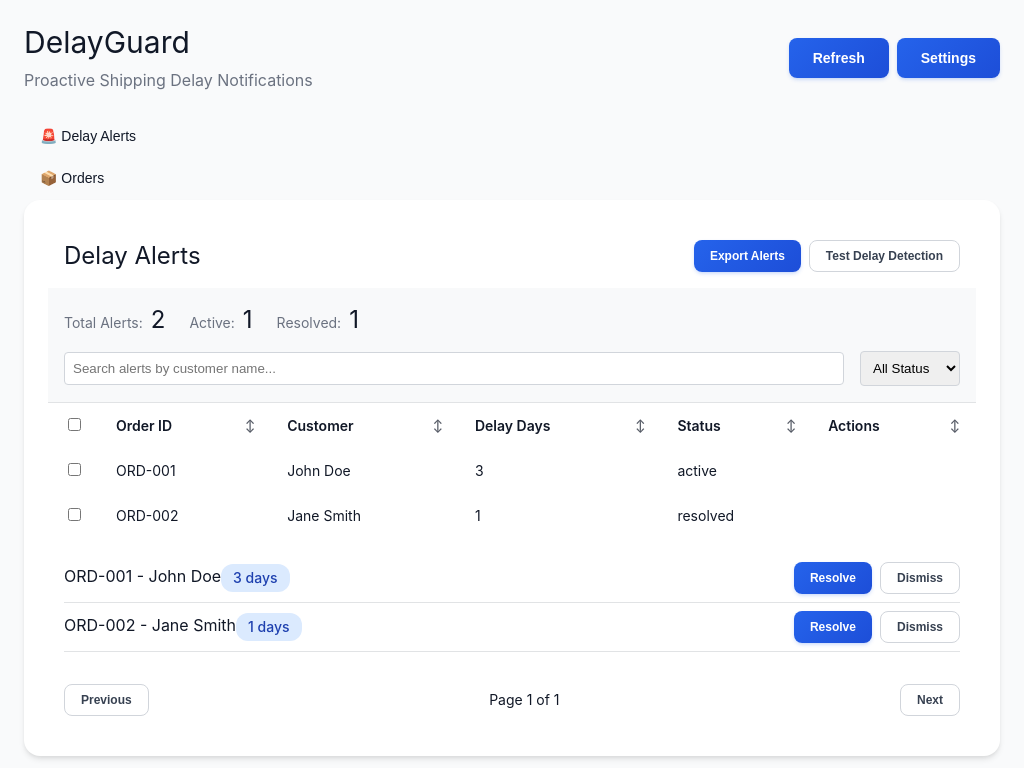
Test: MinimalApp › should display empty state when no orders
Expected: the heading "DelayGuard" is shown, [24,24,190,60]
# Switch to orders tab
What coordinates should you click on to do the following:
click the tab with test id "tab-orders"
I would click on:
 (72, 179)
Its box is [24,158,120,200].
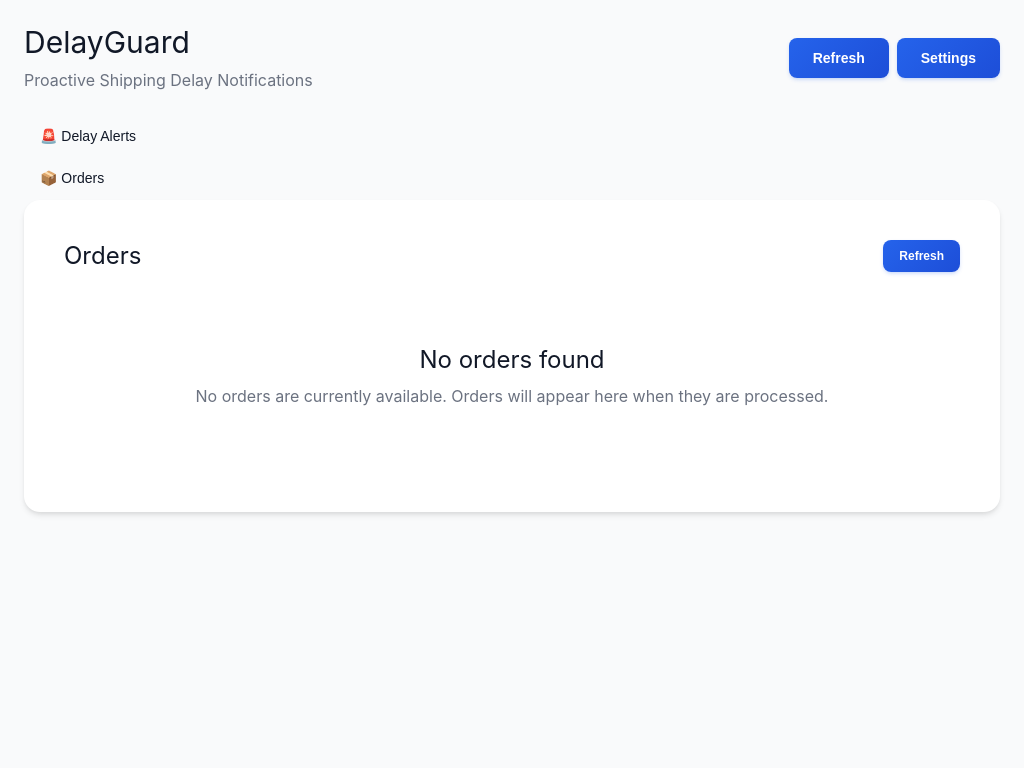
Result: the heading "No orders found" is shown at [420,344,604,376]
